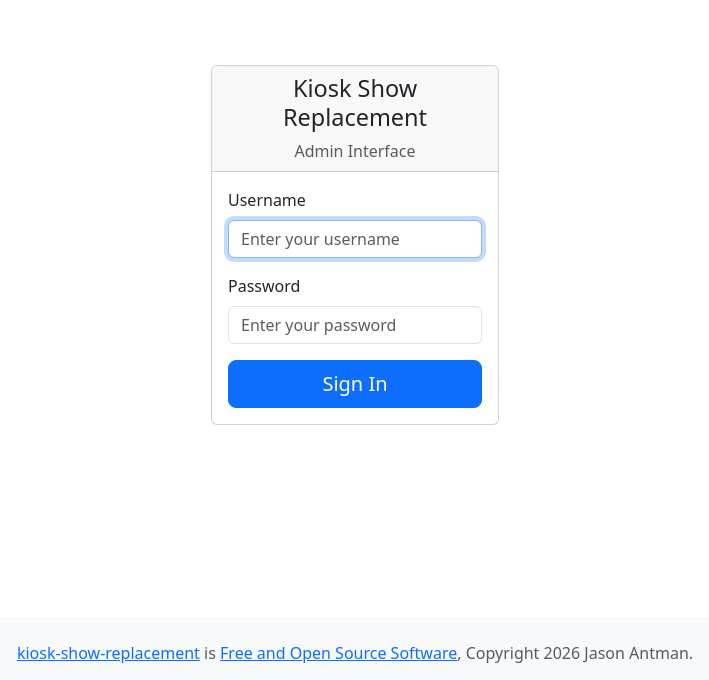
Test: Login › displays validation errors for empty fields
The width and height of the screenshot is (709, 680).
What coordinates should you click on to do the following:
click the button "Sign In"
I would click on:
 (355, 384)
Its box is [228,360,482,408].
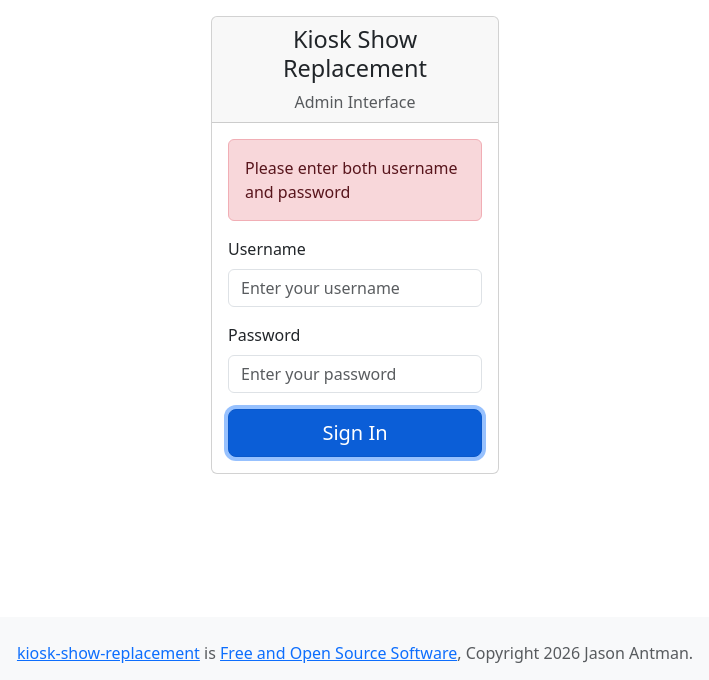
Result: the text "Please enter both username and password" is shown at [228,139,482,221]
